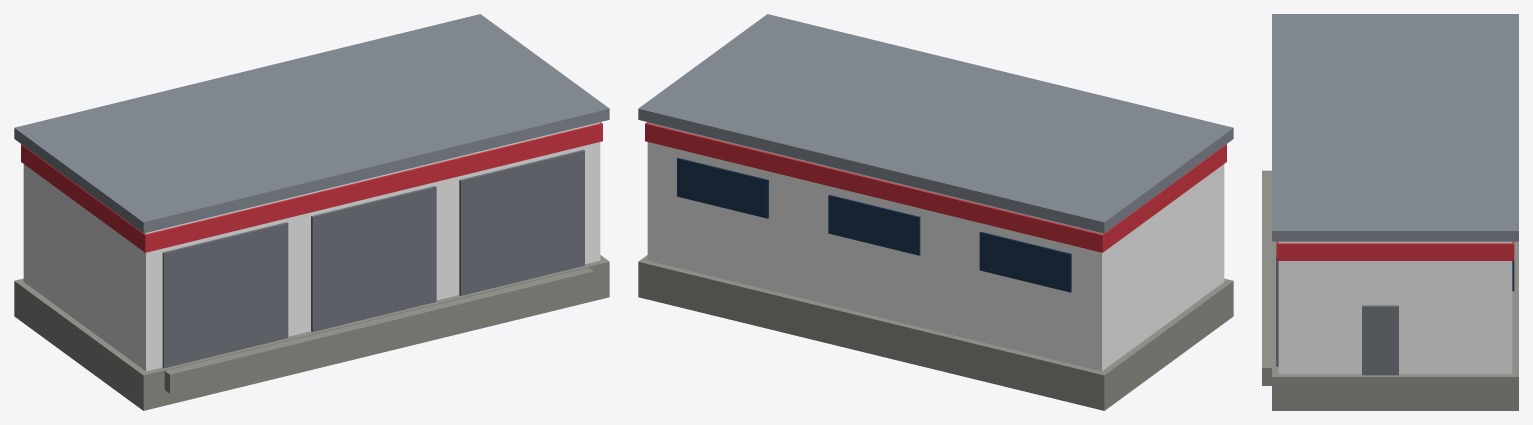
File: mashup-garage-mid-prebuilt.fbx
3 renders of one model, left to right at view 1: azimuth 30°, elevation 25°; view 2: azimuth 150°, elevation 25°; view 3: azimuth 270°, elevation 25°, orthographic. The views are drawn at different scales.
Parts seen in each view (by area): view 1: a1052.Garage; view 2: a1052.Garage; view 3: a1052.Garage.
Boxes of the visible parts, <box> form: a1052.Garage: <box>14,14,609,410</box>; a1052.Garage: <box>638,14,1233,410</box>; a1052.Garage: <box>1262,14,1518,410</box>.
Size of the model in its own units: 15.4 by 5.95 by 7.7.
